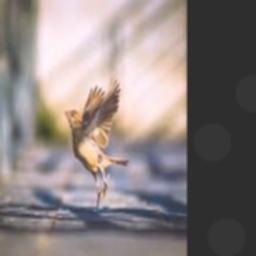Sparrow: (64, 76, 128, 211)
